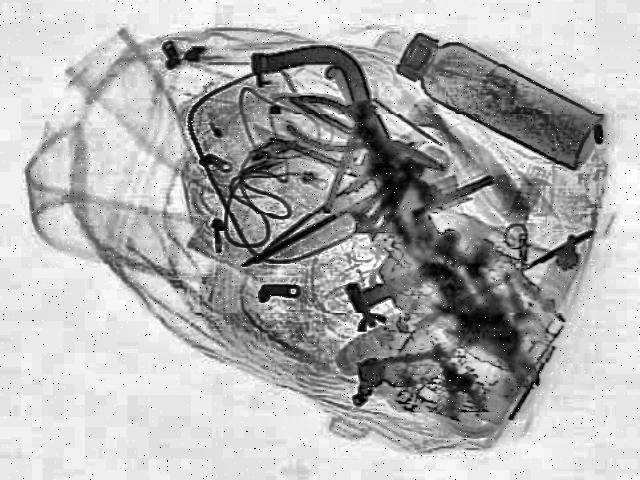Pliers: (264, 88, 464, 192)
